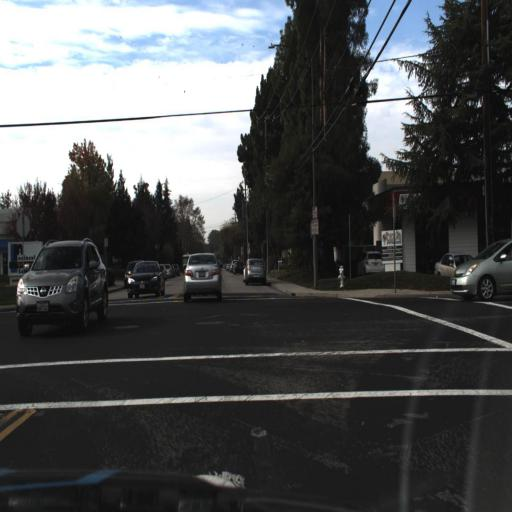car: (8, 230, 114, 343), (442, 230, 511, 318), (176, 240, 228, 312), (122, 254, 164, 306), (429, 242, 462, 292), (355, 245, 388, 287), (237, 250, 270, 289)
